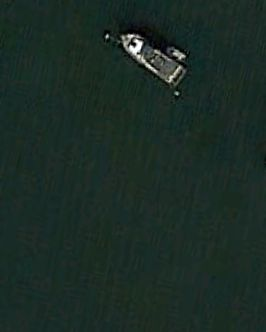boat: (117, 32, 190, 91)
